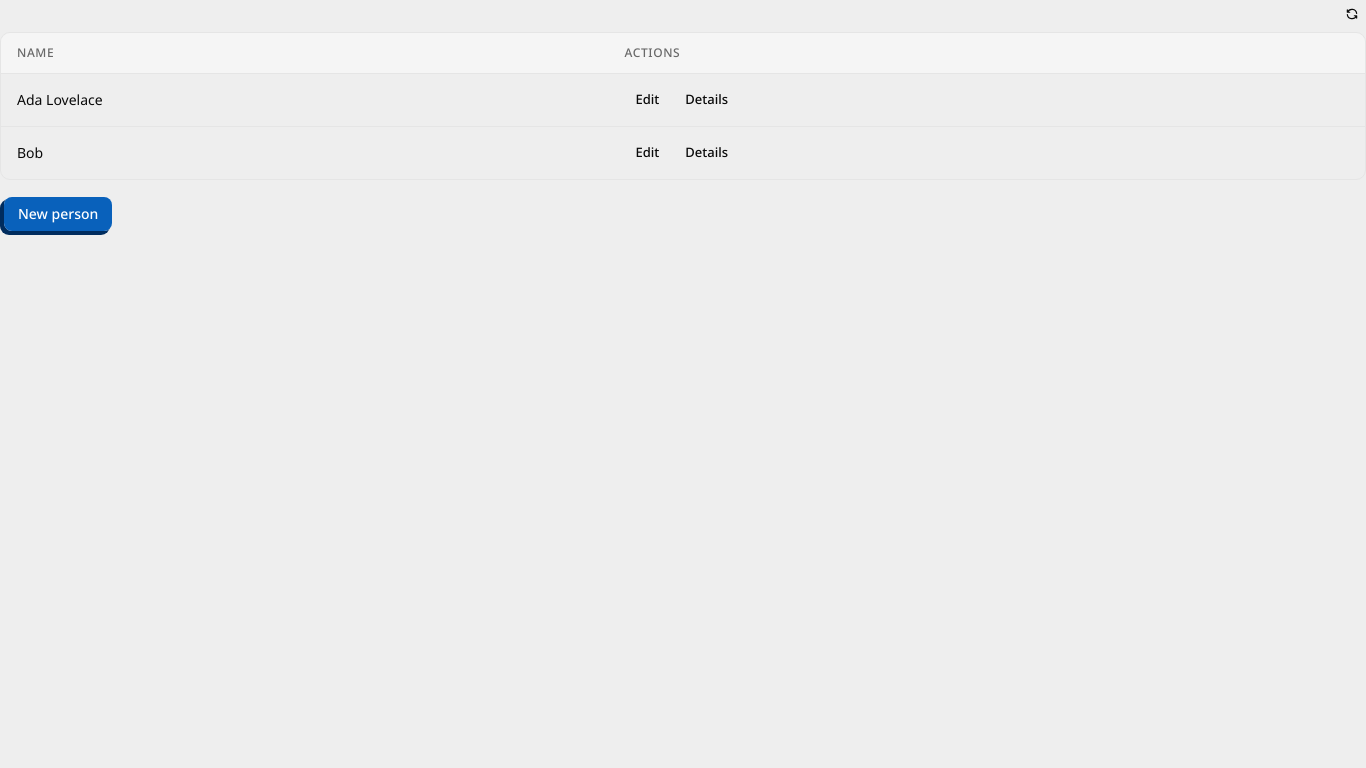
Test: BlockRenderer — WC-block-modal-drawer overlays › submitting the overlay form POSTs, closes the overlay, and refetches the table
The width and height of the screenshot is (1366, 768).
Click the button "Edit" in the row of "Ada Lovelace". click: (647, 100)
box: 624,86 -> 670,114
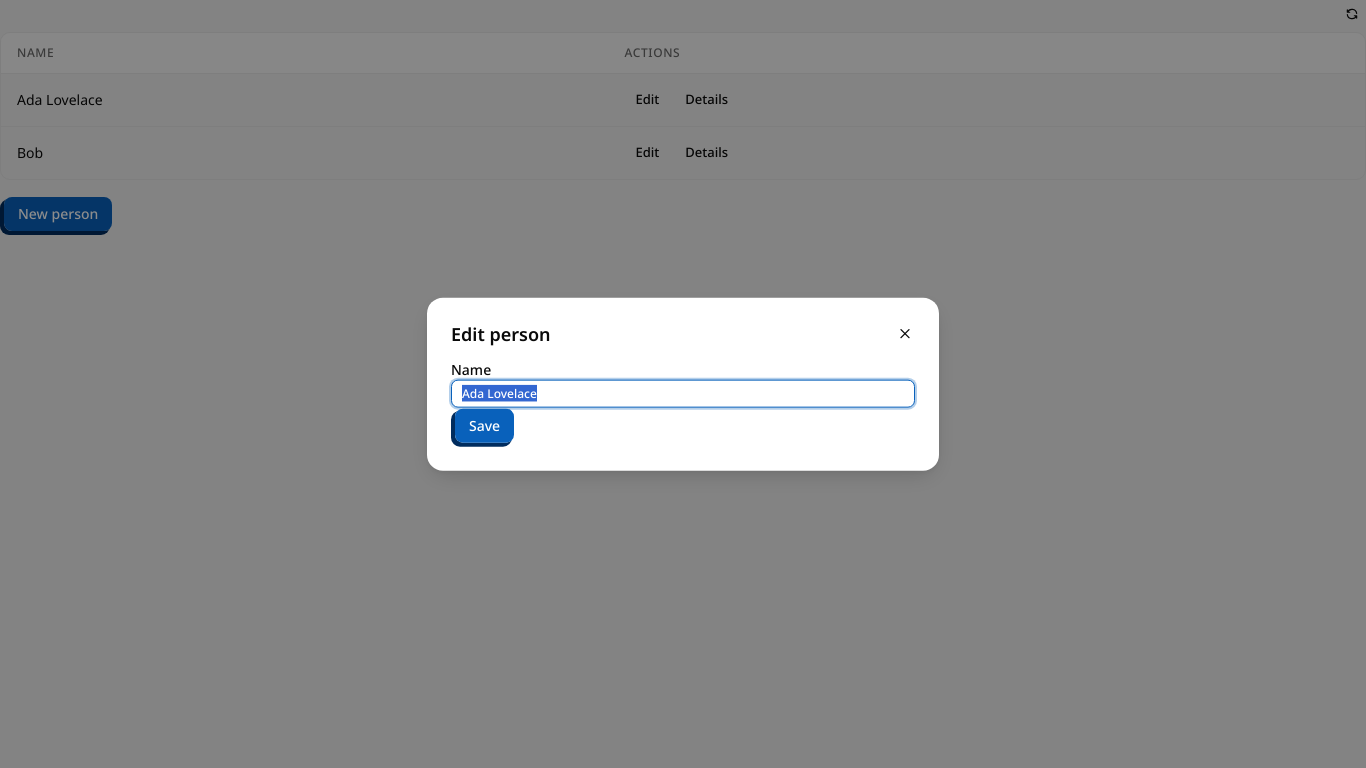
expect the heading "Edit person" is shown: met, box 451,322 -> 550,346
Click the button "Save". click: (485, 425)
box: 454,407 -> 515,443
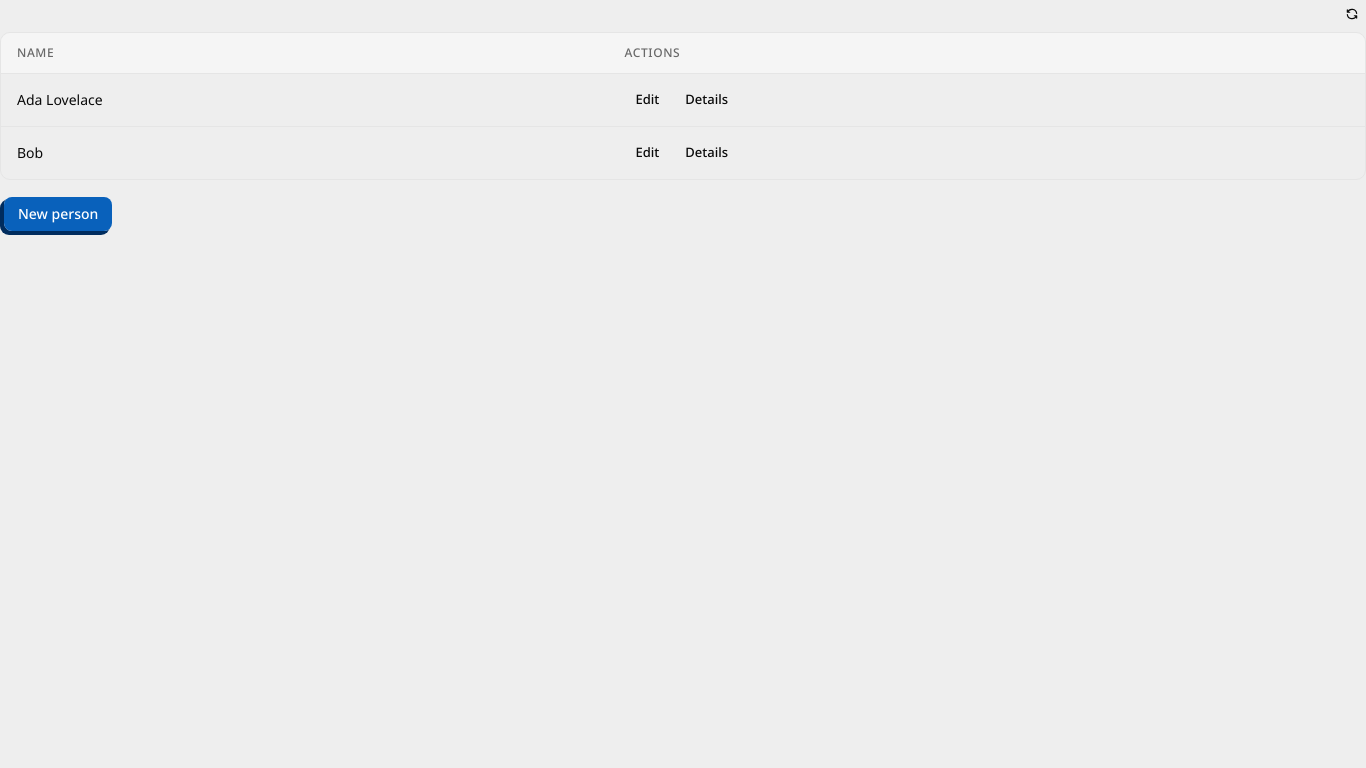
expect the heading "Edit person" is gone: met
